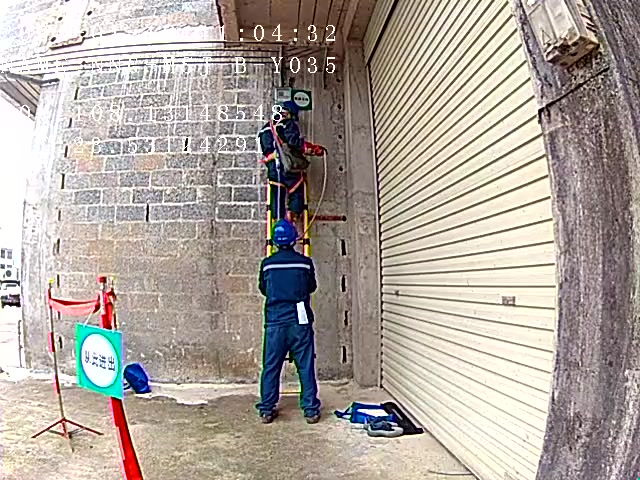halt: (275, 223, 302, 253), (281, 103, 303, 124)
